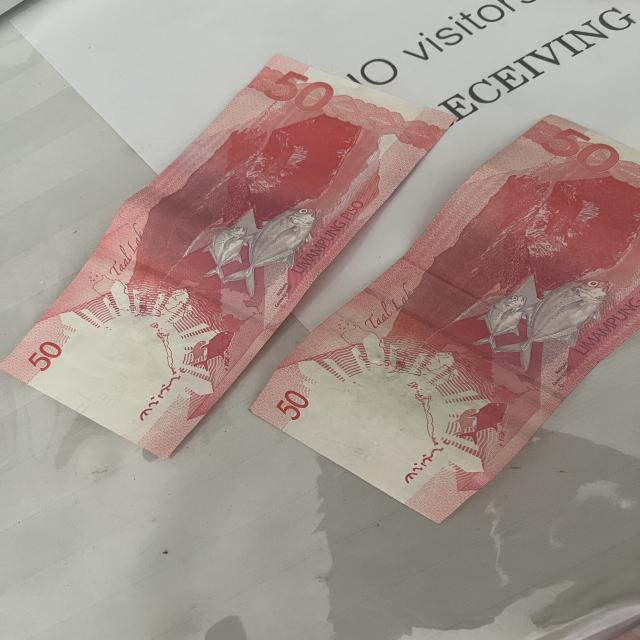50_maliputo: (470, 263, 607, 366), (194, 201, 318, 290)
50_maliputo_watermark: (175, 318, 241, 382), (448, 396, 516, 452)
value_watermark: (349, 444, 383, 469), (91, 390, 122, 410)
watermark: (300, 380, 425, 467), (57, 335, 162, 408)
